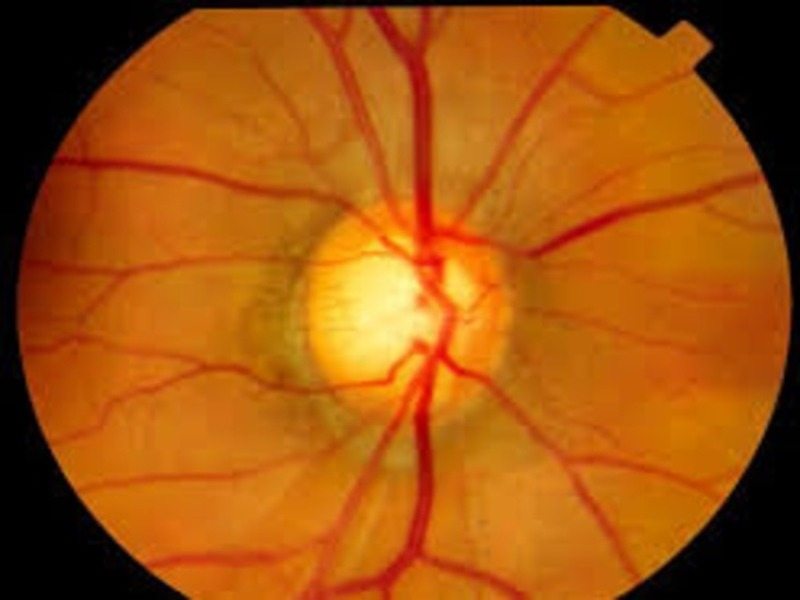Optic Cup: (333, 238, 463, 377)
Optic Disc: (309, 196, 513, 419)
